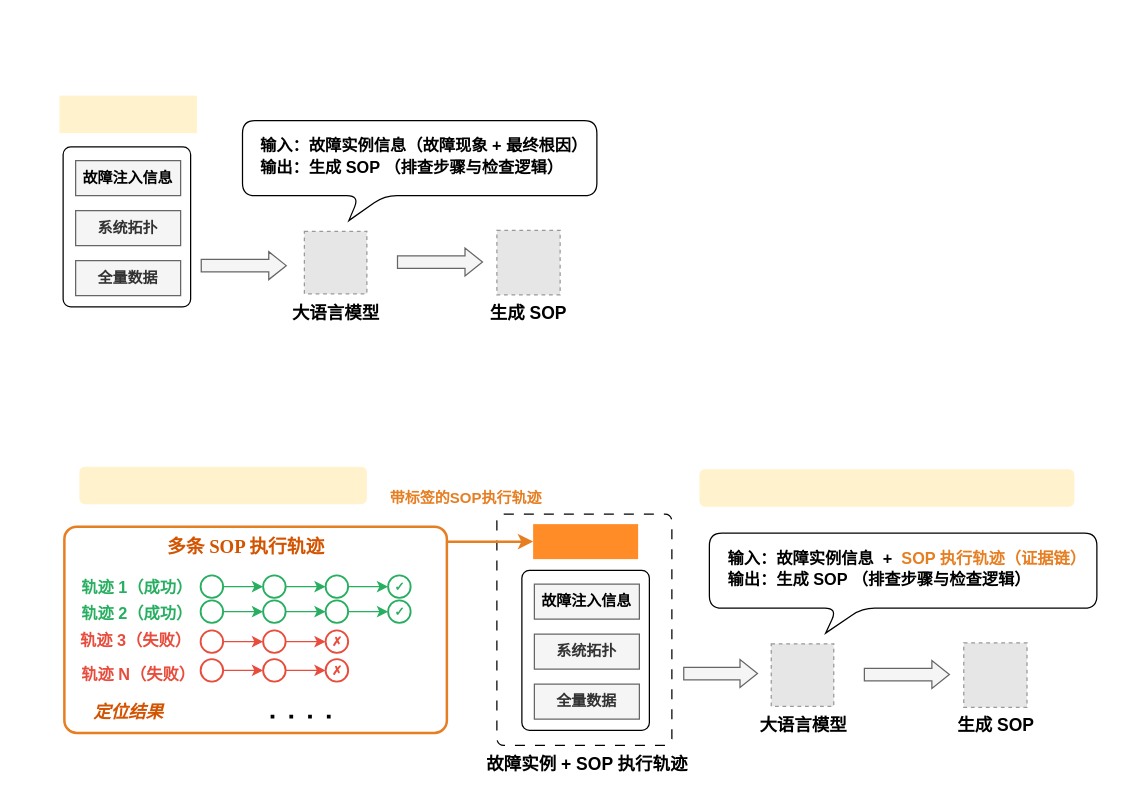
The diagram is 1134 pixels wide and 804 high, and some of its shapes have lost their labels. Grey dashed boxes stand in for pictures. The box of each missing label's shape, as (x1, y1, x2, y2) in pixels:
SOP 执行轨迹: (532, 524, 638, 558)
Step1. 生成多条 SOP 执行轨迹: (79, 466, 366, 504)
Step2. 结合故障实例与执行轨迹构建 SOP: (699, 468, 1074, 506)
故障实例信息: (59, 95, 196, 132)
